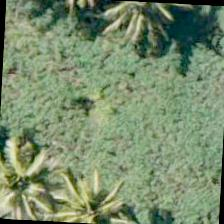Kelapa_Sawit: (90, 0, 184, 60), (0, 132, 58, 222), (39, 170, 132, 223)
